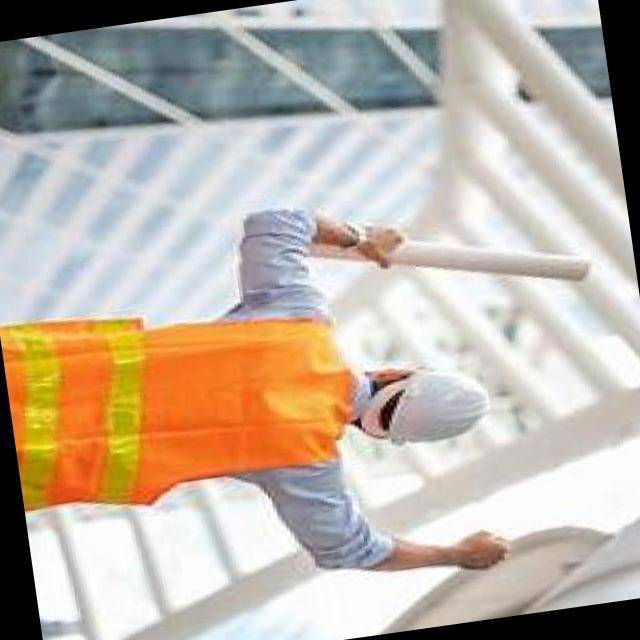not-gloved: (431, 526, 528, 584), (329, 207, 412, 271)
